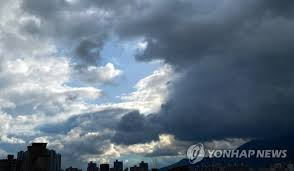sky: (1, 3, 294, 153)
